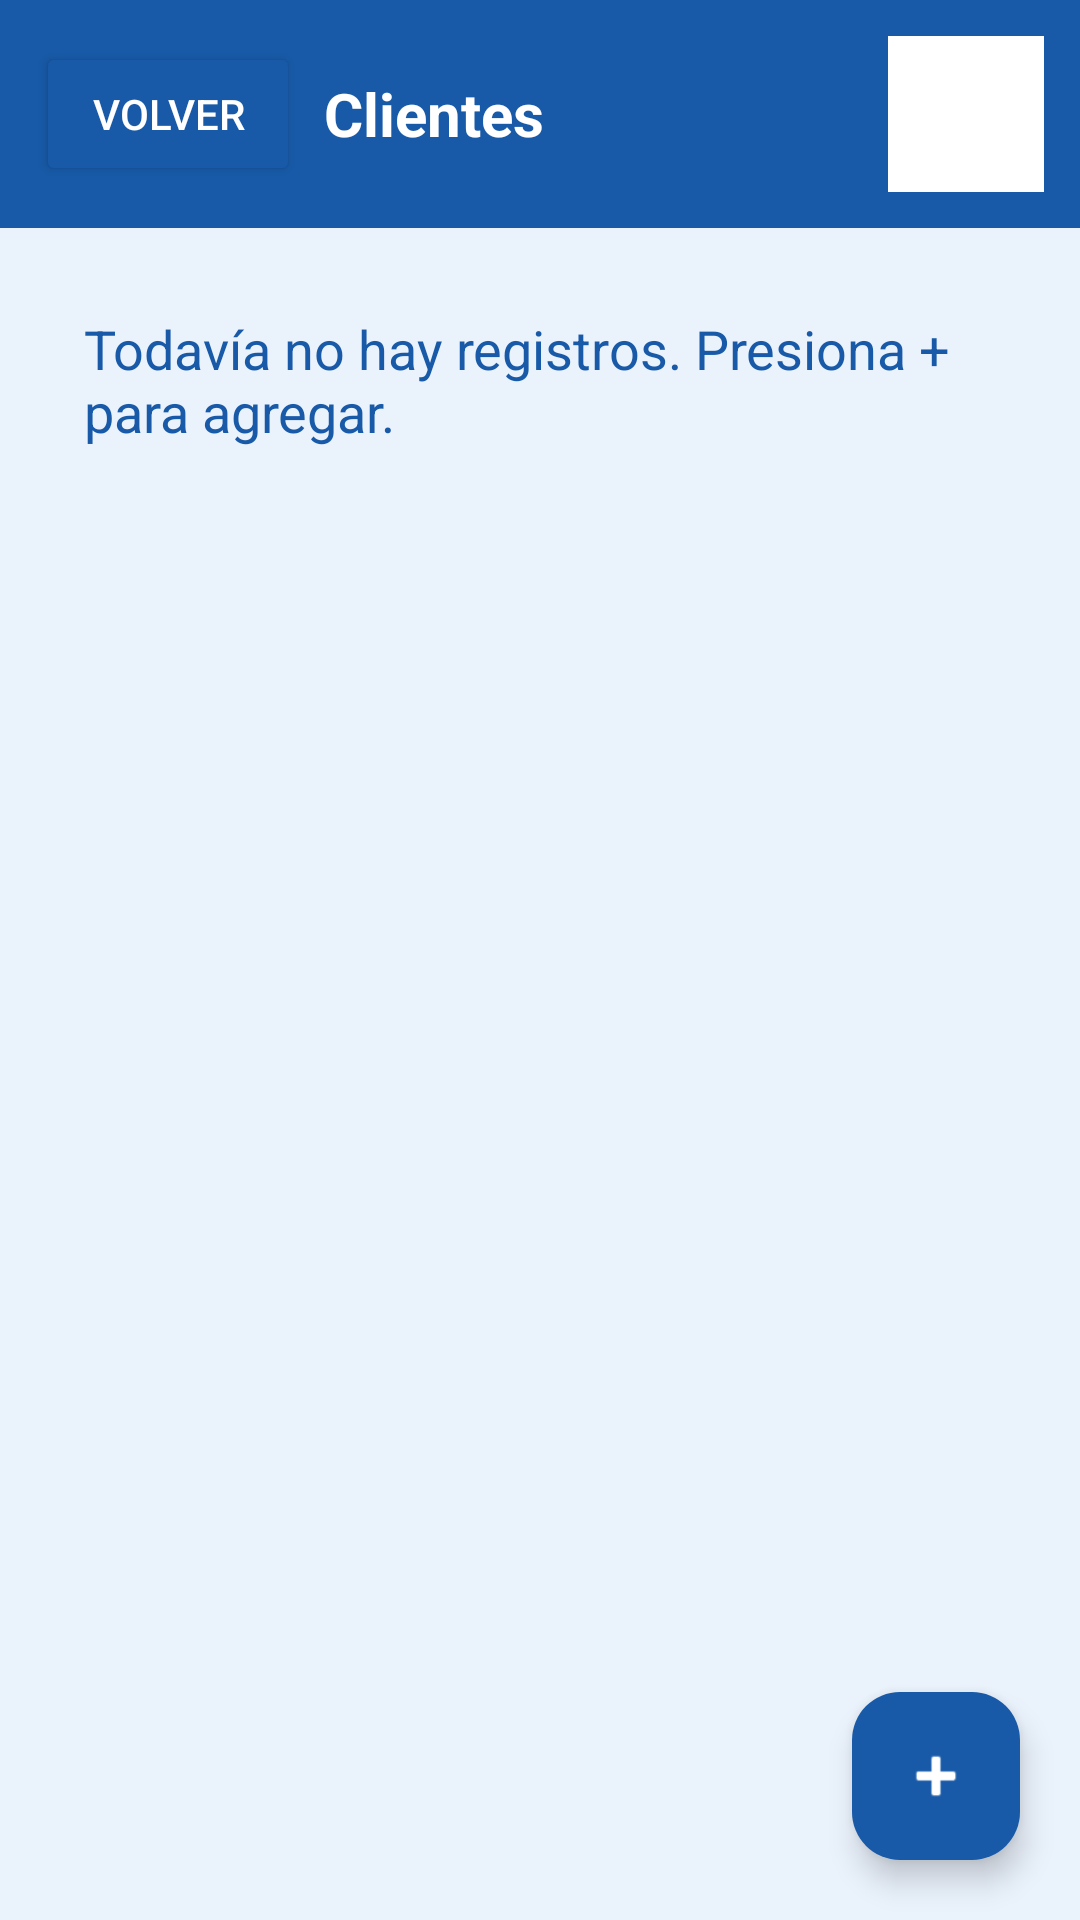

Icon click points for this 1080×1920 phone screenshot, format [x,y]:
Agregar registro: [936,1776]
